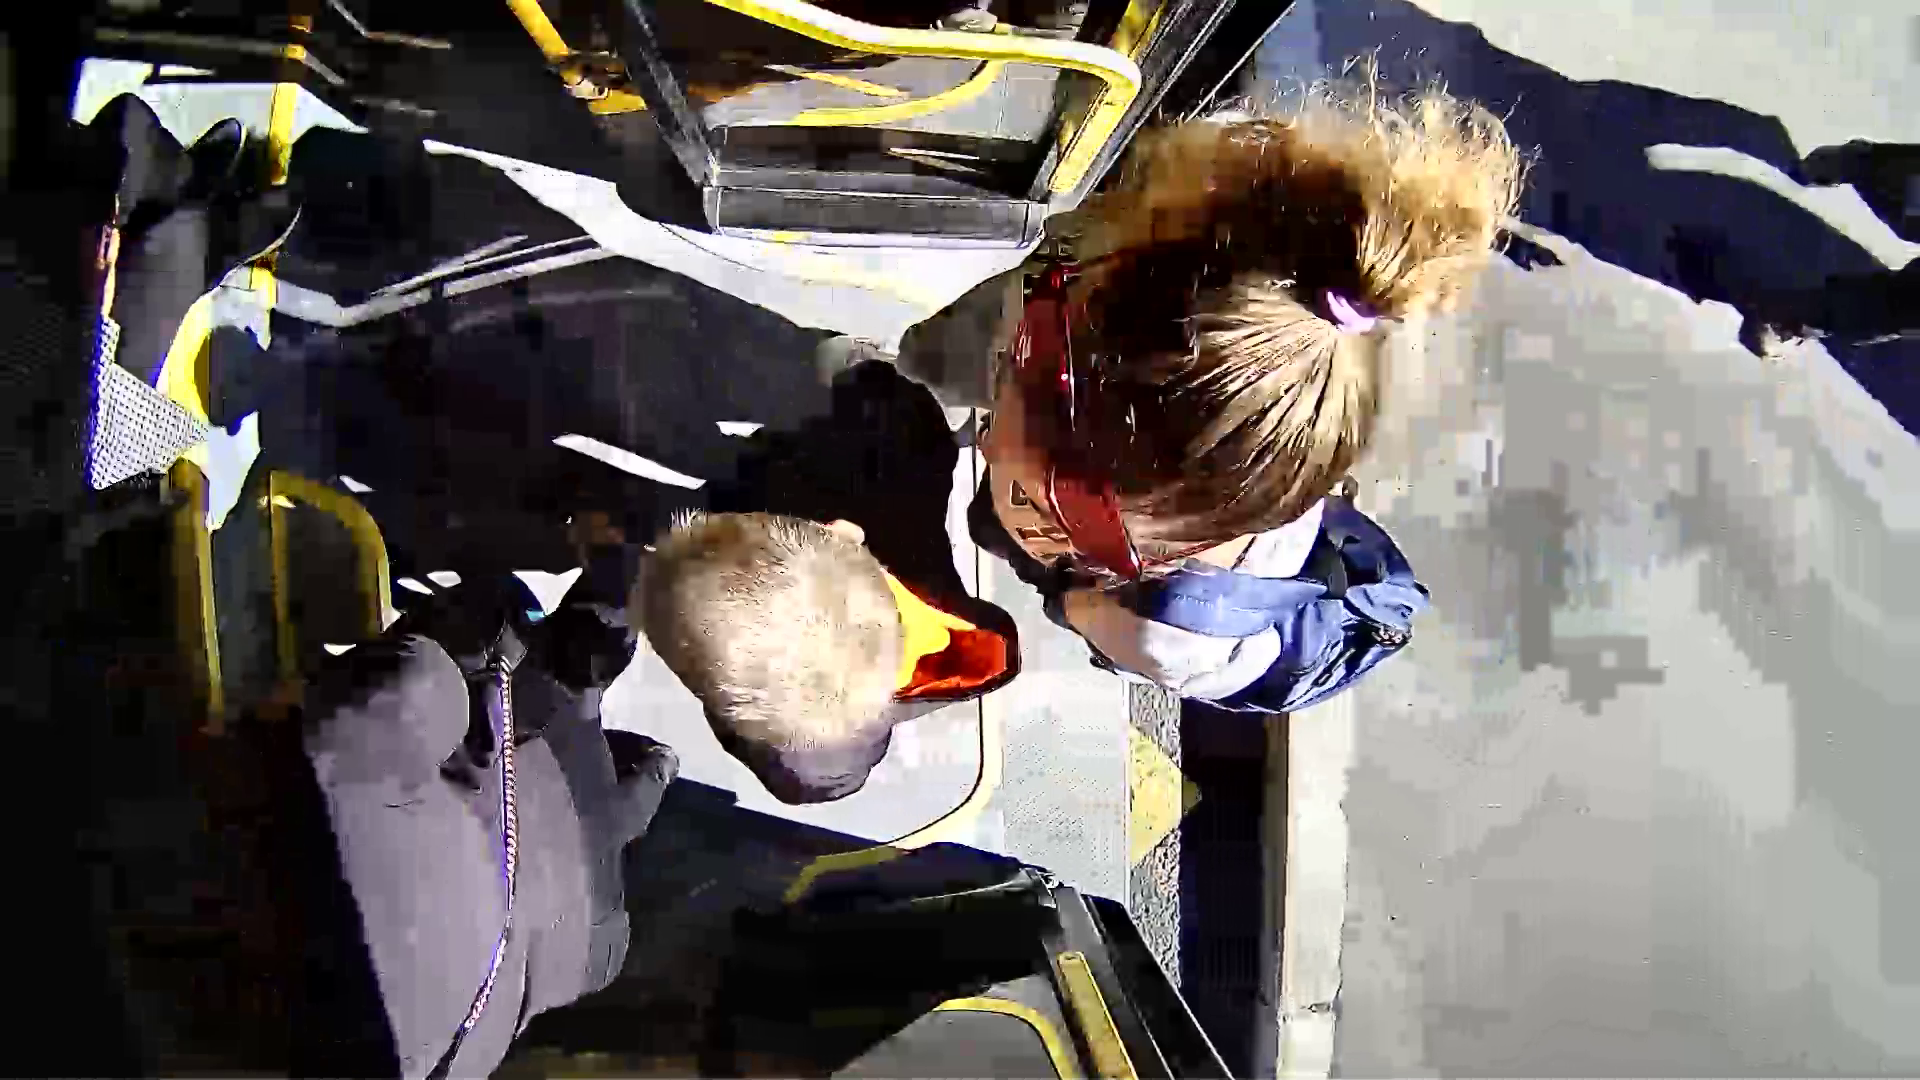person: (387, 177, 1055, 864), (983, 108, 1700, 742)
